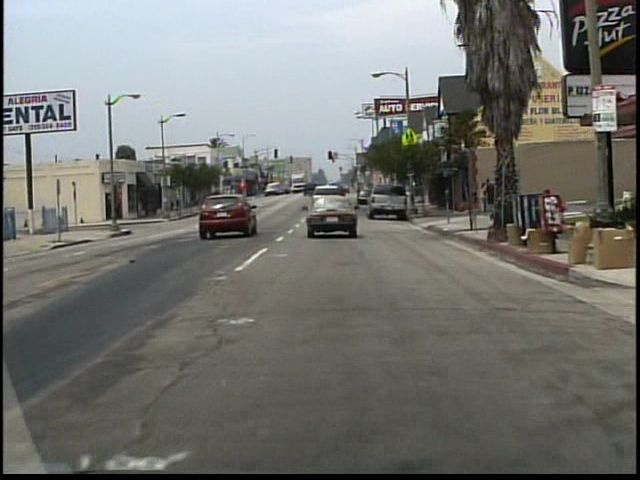person: (486, 179, 497, 215), (481, 183, 485, 213)
